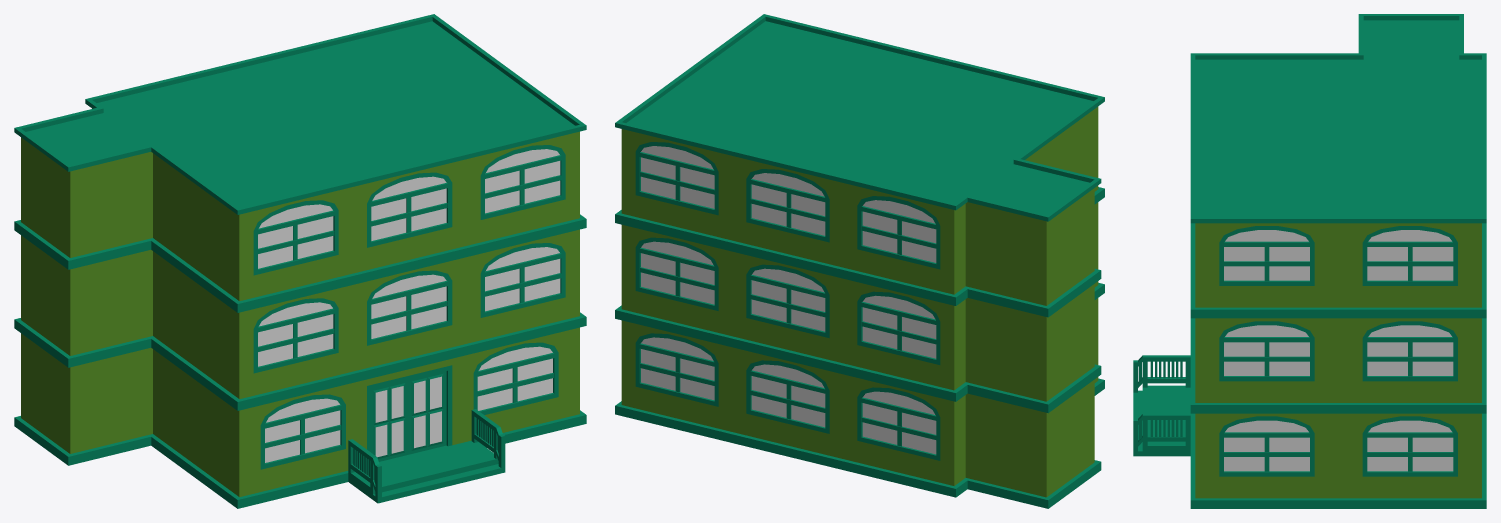
Rendered from medium building 2.fbx.
The picture shows the model from 3 angles, left to right: view 1: azimuth 30°, elevation 25°; view 2: azimuth 150°, elevation 25°; view 3: azimuth 270°, elevation 25°; orthographic projection. The views are drawn at different scales.
Visible parts, largest first — view 1: building_001; view 2: building_001; view 3: building_001.
Boxes of the visible parts, x1=… form: building_001: x1=14, y1=14, x2=586, y2=508; building_001: x1=615, y1=14, x2=1104, y2=508; building_001: x1=1133, y1=14, x2=1486, y2=508.
Bounding box in the file's own units: 1014 × 670 × 740.
